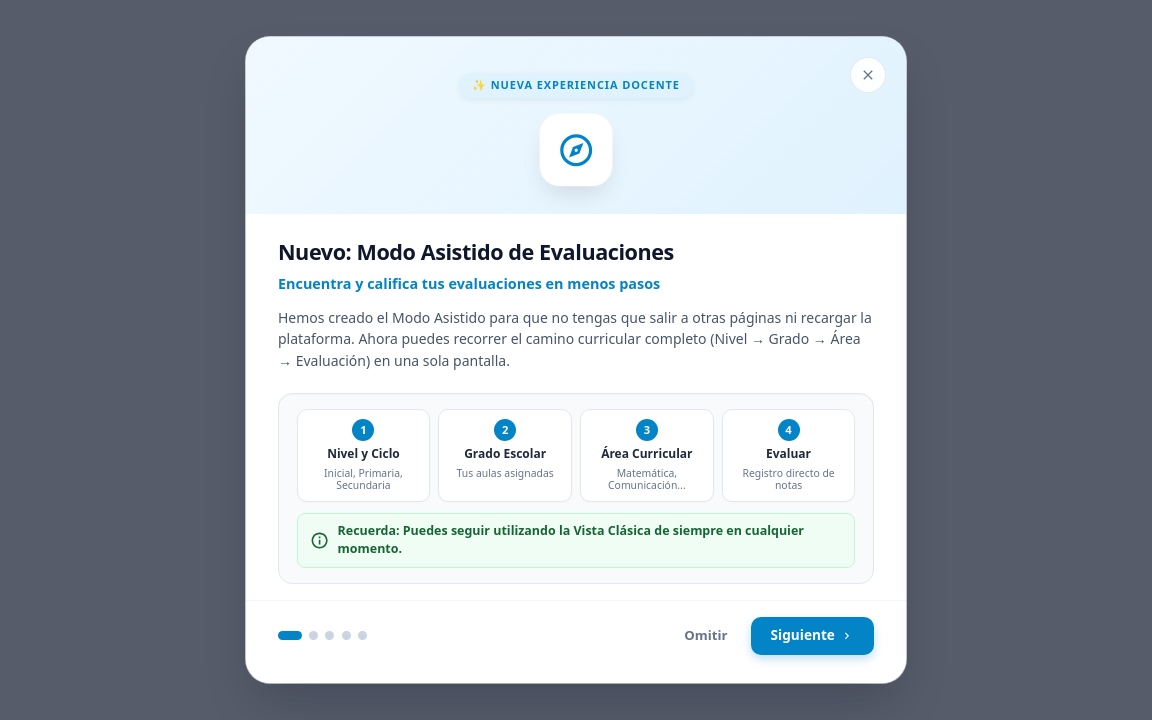
Test: DocentesAsistidoOnboardingModal › navega directamente al pulsar un punto (dot)
// Saltar al último paso (índice 4: Vista clásica recordatorio)
What coordinates should you click on to do the following:
click the tab named "Ir al paso 5"
I would click on:
 (362, 636)
Its box is [358,631,367,640].
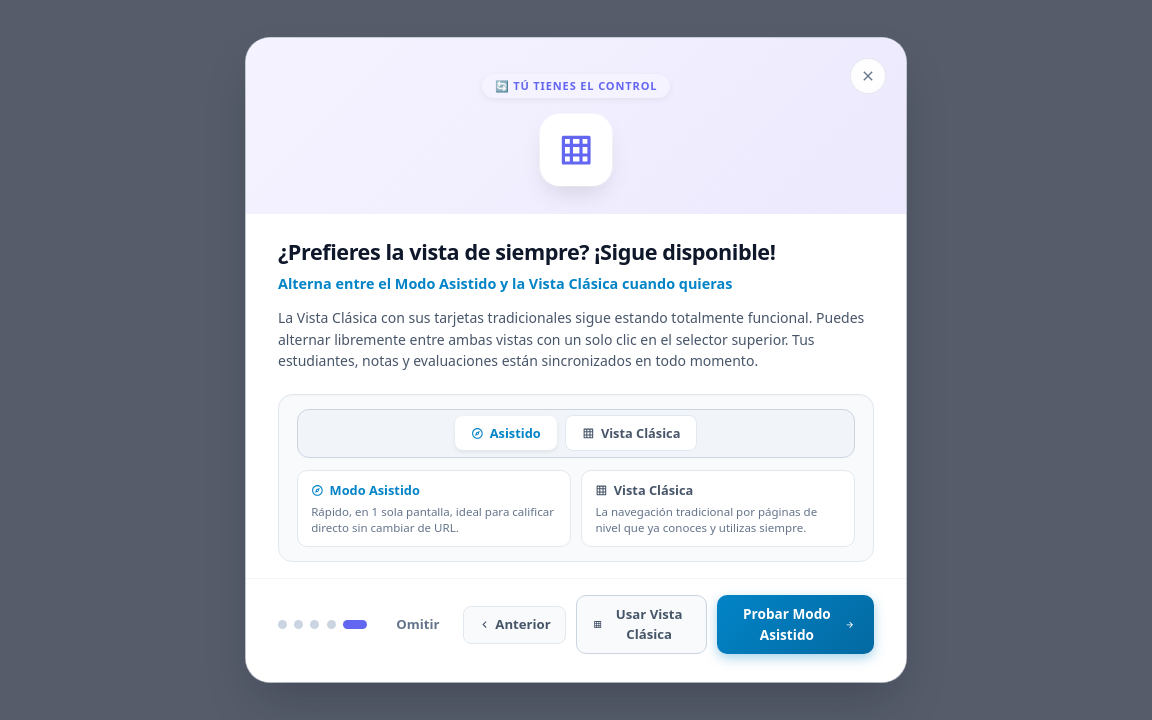
Expected: the heading "¿Prefieres la vista de siempre? ¡Sigue disponible!" is shown, [278,237,775,266]
